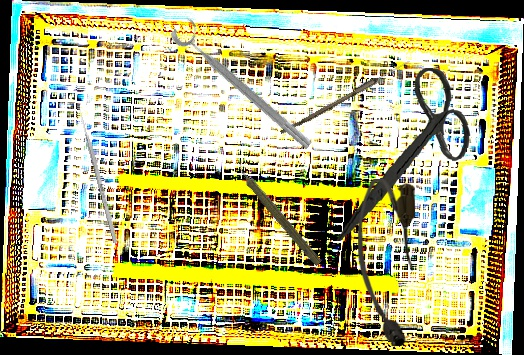Cannula: (358, 179, 415, 346)
Fixation Ring: (167, 14, 323, 154)
Handpiece: (230, 158, 326, 268)
Iris Scissors: (334, 61, 478, 252)
Pusher: (76, 105, 119, 244)
Surgical Spoon: (280, 57, 411, 138)
